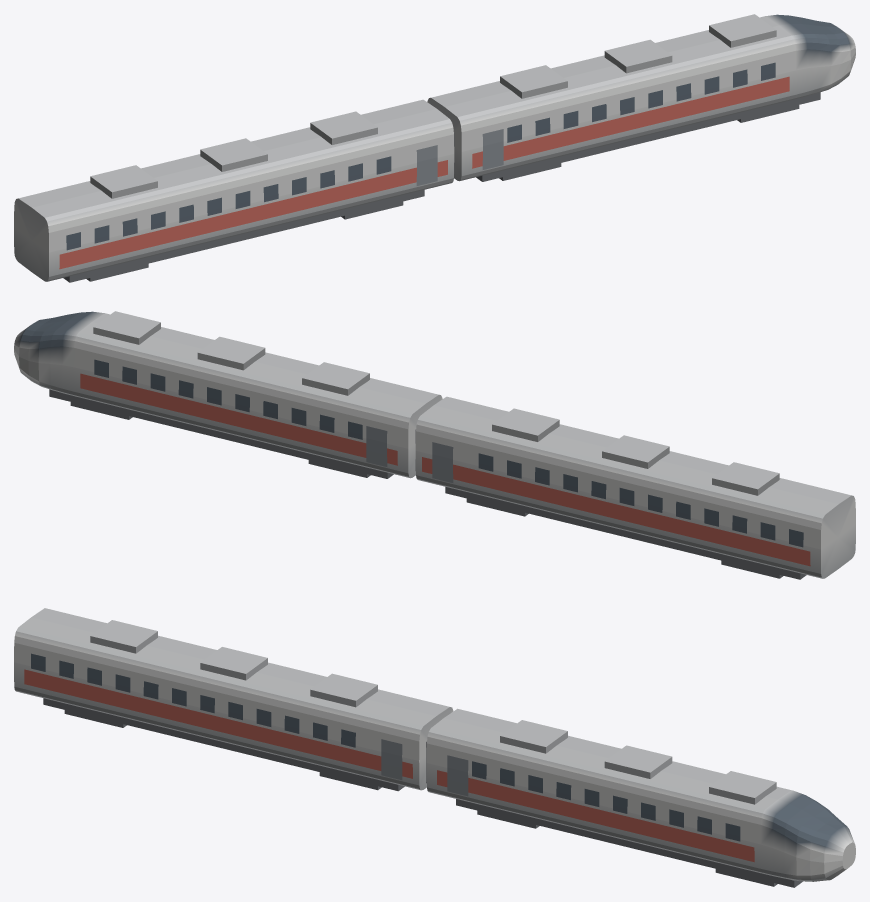
File: 01_TRA_modern_3x2-02.glb
3 renders of one model, top to bottom at view 1: azimuth 30°, elevation 25°; view 2: azimuth 150°, elevation 25°; view 3: azimuth 330°, elevation 25°, orthographic.
Size of the model in its own units: 39.16 by 3.77 by 2.96.
